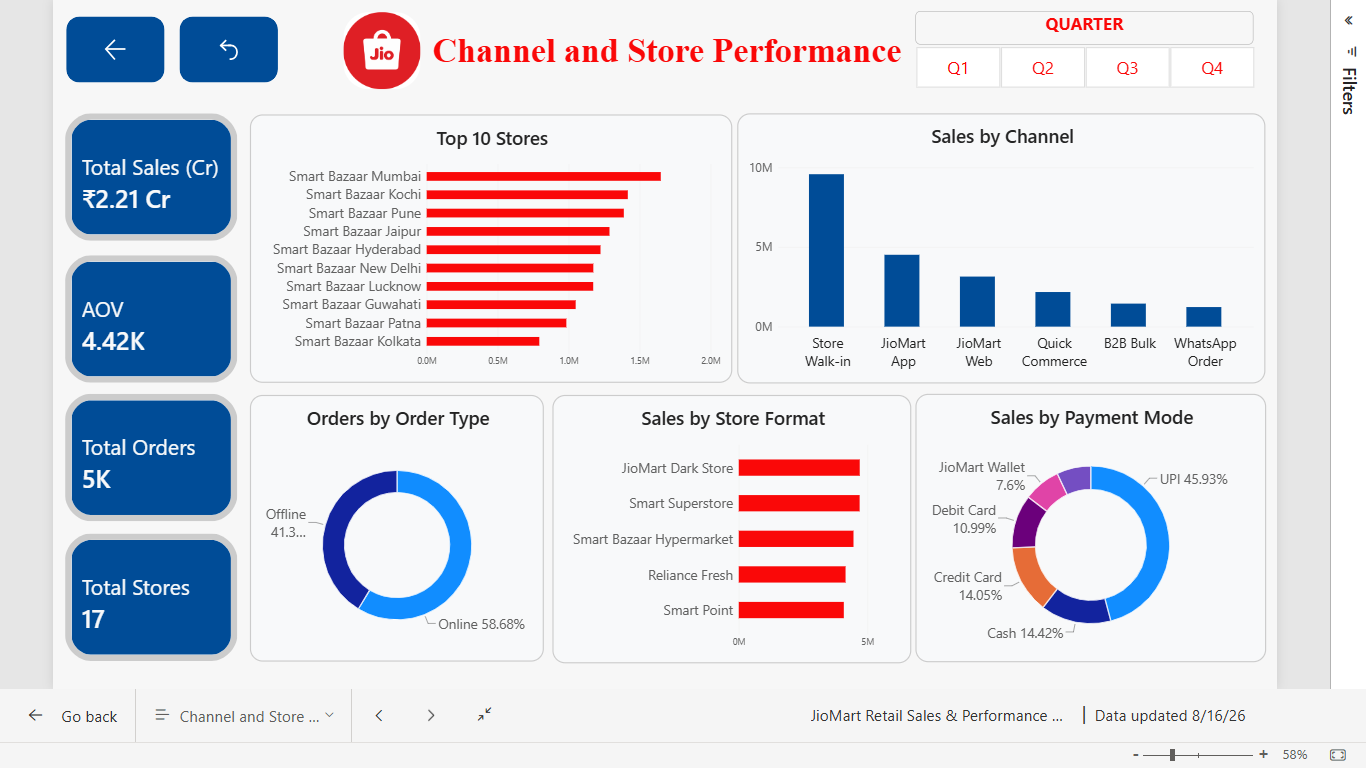

Layout of this report page (visuals, bound fields, positions):
{"tool":"powerbi","page":{"name":"Channel and Store Analysis","canvas":[1920,1080],"ordinal":5},"visuals":[{"type":"textbox","box":[1352.5,17.5,530,52.5],"z":0},{"type":"image","box":[455.9,18.8,120.7,120.7],"z":1000},{"type":"shape","box":[595.3,18.8,737.4,120.7],"z":2000},{"type":"slicer","fields":{"Values":["Date.Quarter"]},"box":[1333.5,72.7,568.7,66.1],"z":3000},{"type":"cardVisual","fields":{"Data":["Sales Measures.Total Sales (Cr)"]},"box":[18.8,177,270,200],"z":4000},{"type":"cardVisual","fields":{"Data":["Sales Measures.Total Orders"]},"box":[18.8,616.8,270,200],"z":5000},{"type":"cardVisual","fields":{"Data":["Customer Measures.AOV"]},"box":[18.8,399.6,270.8,200],"z":6000},{"type":"cardVisual","fields":{"Data":["Other Measures.Total Stores"]},"box":[18.8,836.6,270.8,200],"z":7000},{"type":"clusteredColumnChart","title":"Sales by Channel","fields":{"Category":["Sales.Channel"],"Y":["Sales Measures.Total Sales"]},"box":[1072.6,177,828.6,423.7],"z":8000},{"type":"clusteredBarChart","title":"Sales by Store Format","fields":{"Category":["Sales.Store_Format"],"Y":["Sales Measures.Total Sales"]},"box":[783,619.4,563.1,421],"z":9000},{"type":"clusteredBarChart","title":"Top 10 Stores","fields":{"Category":["Sales.Store_Name"],"Y":["Sales Measures.Total Sales"]},"box":[308.4,179.7,756.2,421],"z":10000},{"type":"donutChart","title":"Orders by Order Type","fields":{"Category":["Sales.Order_Type"],"Y":["Sales Measures.Total Orders"]},"box":[308.4,619.4,461.2,418.3],"z":11000},{"type":"donutChart","title":"Sales by Payment Mode","fields":{"Category":["Sales.Payment_Mode"],"Y":["Sales Measures.Total Sales"]},"box":[1351.5,616.8,549.7,421],"z":12000},{"type":"actionButton","box":[19.8,26.4,154.3,103.6],"z":13000},{"type":"actionButton","box":[198.4,26.4,154.3,103.6],"z":14000}]}

Visuals, with their boxes on the page's 1920x1080 design canvas (x1, y1, x2, y2). These are canvas units, not pixel positions in the 1366x768 screenshot, which may show the page scaled, cropped or inside an application window:
textbox: 1352, 18, 1882, 70
image: 456, 19, 577, 140
shape: 595, 19, 1333, 140
slicer - Date.Quarter: 1334, 73, 1902, 139
cardVisual - Sales Measures.Total Sales (Cr): 19, 177, 289, 377
cardVisual - Sales Measures.Total Orders: 19, 617, 289, 817
cardVisual - Customer Measures.AOV: 19, 400, 290, 600
cardVisual - Other Measures.Total Stores: 19, 837, 290, 1037
"Sales by Channel" clusteredColumnChart: 1073, 177, 1901, 601
"Sales by Store Format" clusteredBarChart: 783, 619, 1346, 1040
"Top 10 Stores" clusteredBarChart: 308, 180, 1065, 601
"Orders by Order Type" donutChart: 308, 619, 770, 1038
"Sales by Payment Mode" donutChart: 1352, 617, 1901, 1038
actionButton: 20, 26, 174, 130
actionButton: 198, 26, 353, 130
